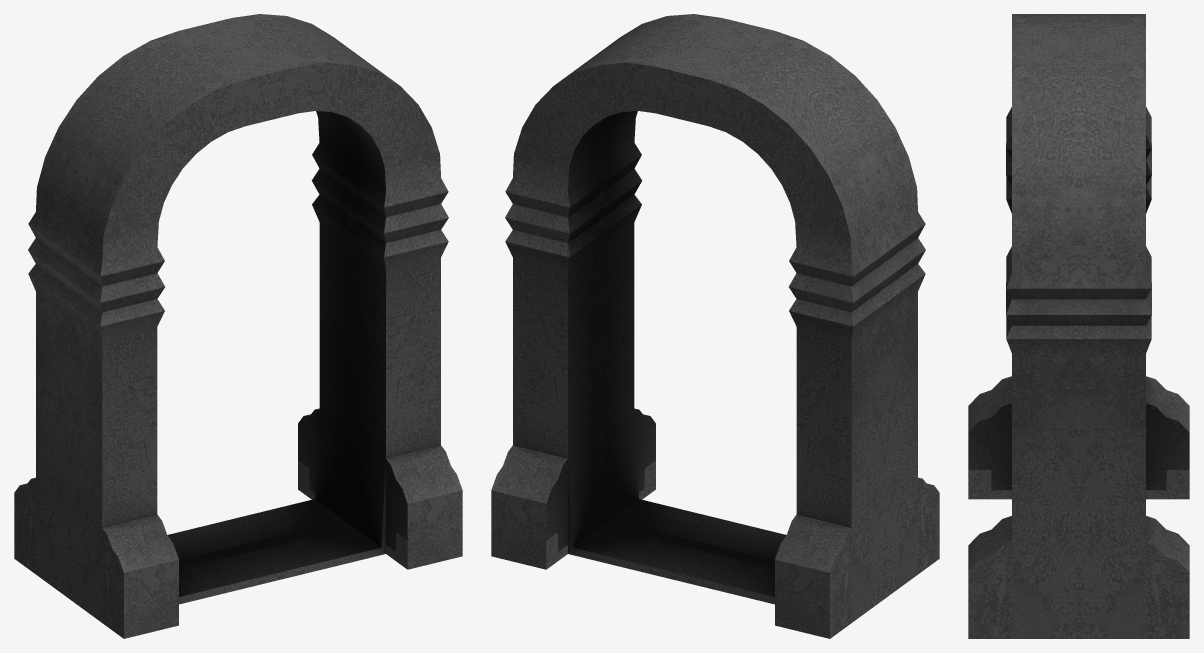
File: doorframe.fbx
3 renders of one model, left to right at view 1: azimuth 30°, elevation 25°; view 2: azimuth 150°, elevation 25°; view 3: azimuth 270°, elevation 25°, orthographic.
Parts seen in each view (by area): view 1: Doorframe; view 2: Doorframe; view 3: Doorframe.
Part boxes in pixels (<box>): Doorframe: <box>14,14,462,638</box>; Doorframe: <box>491,14,939,638</box>; Doorframe: <box>968,14,1189,638</box>.
Size of the model in its own units: 840 by 1171 by 458.
Materials: 1 (1 with a texture image).
